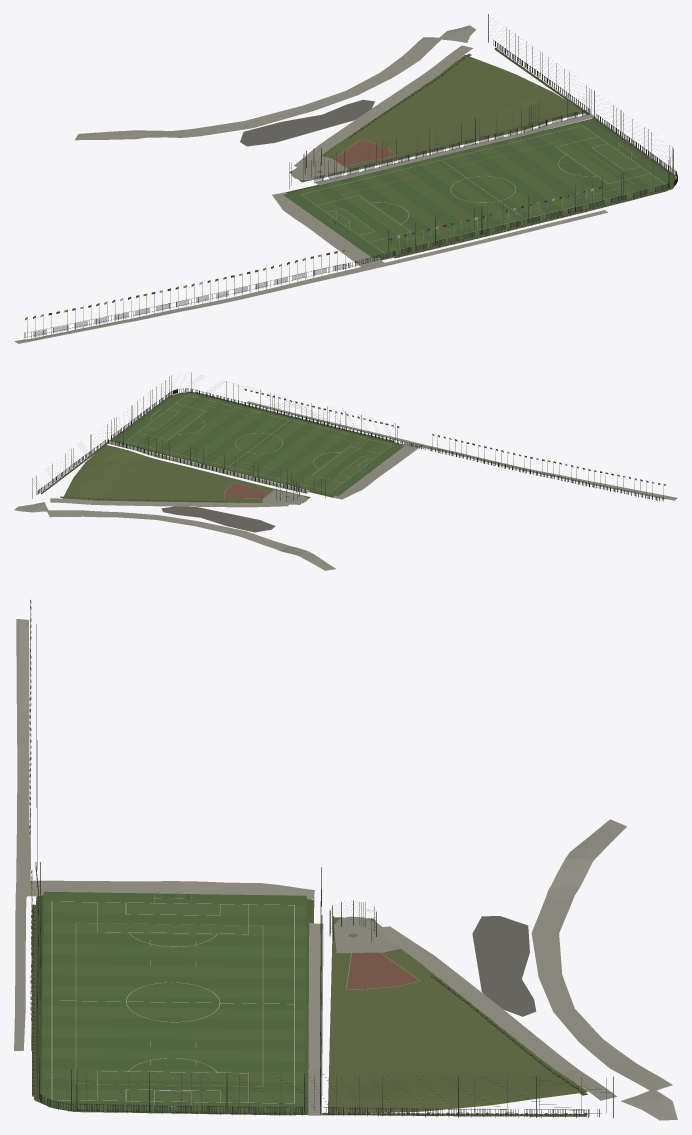
The model's file is site.glb.
3 renders of one model, top to bottom at view 1: azimuth 30°, elevation 25°; view 2: azimuth 150°, elevation 25°; view 3: azimuth 270°, elevation 25°, orthographic. The views are drawn at different scales.
Parts seen in each view (by area): view 1: hayward-practice-fields-ground, hayward-practice-fields-enclosures, hayward-practice-fields-planting-and-flags; view 2: hayward-practice-fields-ground, hayward-practice-fields-enclosures, hayward-practice-fields-planting-and-flags; view 3: hayward-practice-fields-ground, hayward-practice-fields-enclosures, hayward-practice-fields-planting-and-flags.
Boxes of the visible parts, x1=… form: hayward-practice-fields-ground: x1=14, y1=25, x2=676, y2=343; hayward-practice-fields-enclosures: x1=24, y1=14, x2=677, y2=338; hayward-practice-fields-planting-and-flags: x1=25, y1=47, x2=672, y2=338; hayward-practice-fields-ground: x1=14, y1=391, x2=677, y2=570; hayward-practice-fields-enclosures: x1=32, y1=372, x2=663, y2=501; hayward-practice-fields-planting-and-flags: x1=40, y1=389, x2=665, y2=501; hayward-practice-fields-ground: x1=14, y1=619, x2=677, y2=1120; hayward-practice-fields-enclosures: x1=35, y1=624, x2=613, y2=1118; hayward-practice-fields-planting-and-flags: x1=29, y1=599, x2=587, y2=1115.
Bounding box in the file's own units: 221 × 11.12 × 130.
